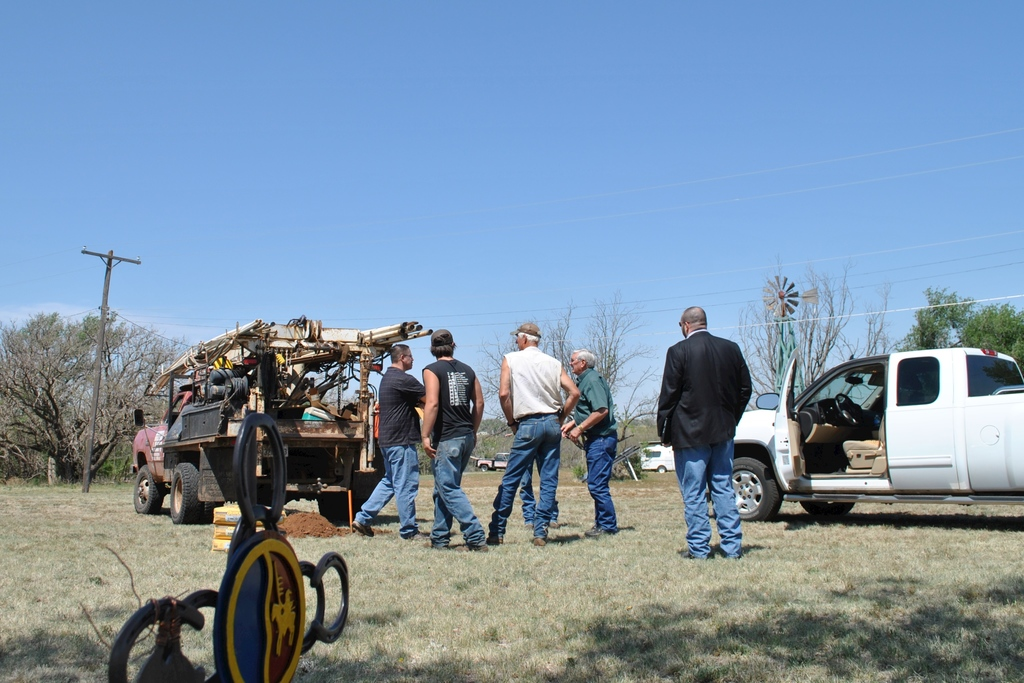Car: (735, 348, 1022, 527)
